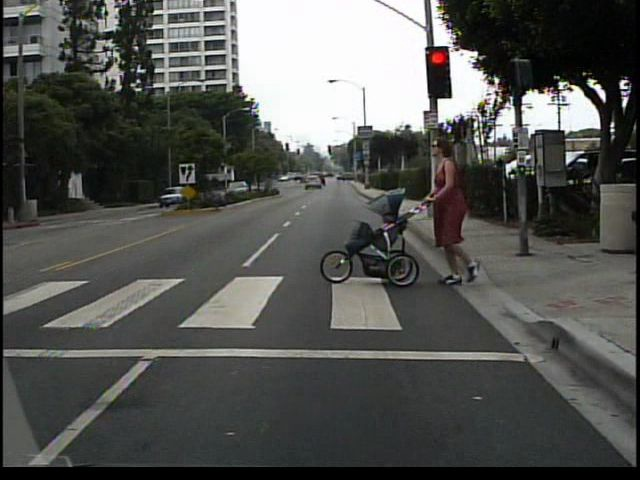person: (425, 135, 489, 285)
